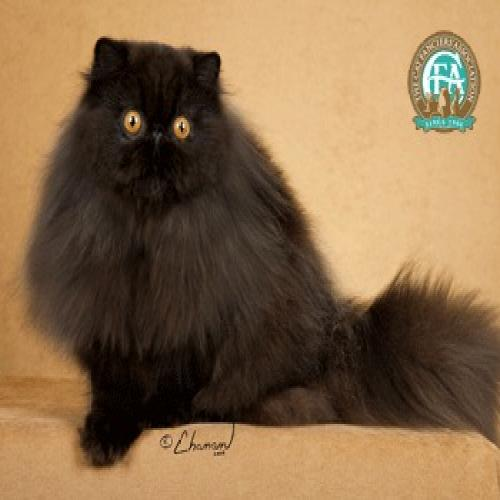persian: (77, 28, 232, 220)
